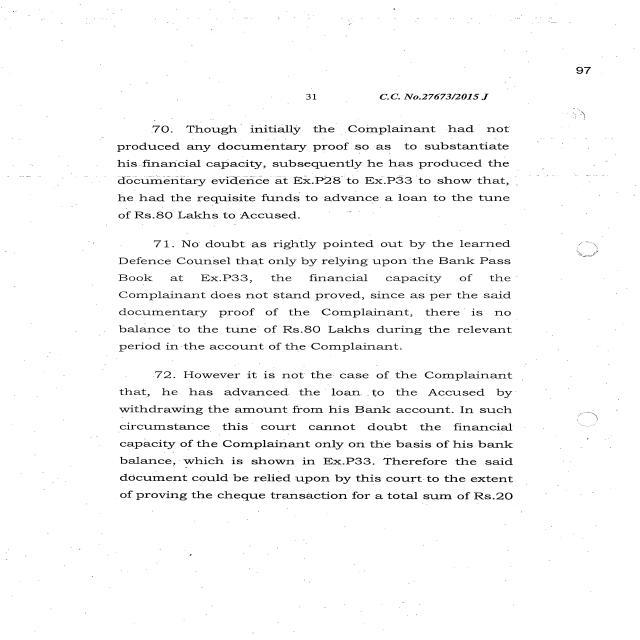page-number: (491, 22, 640, 105)
